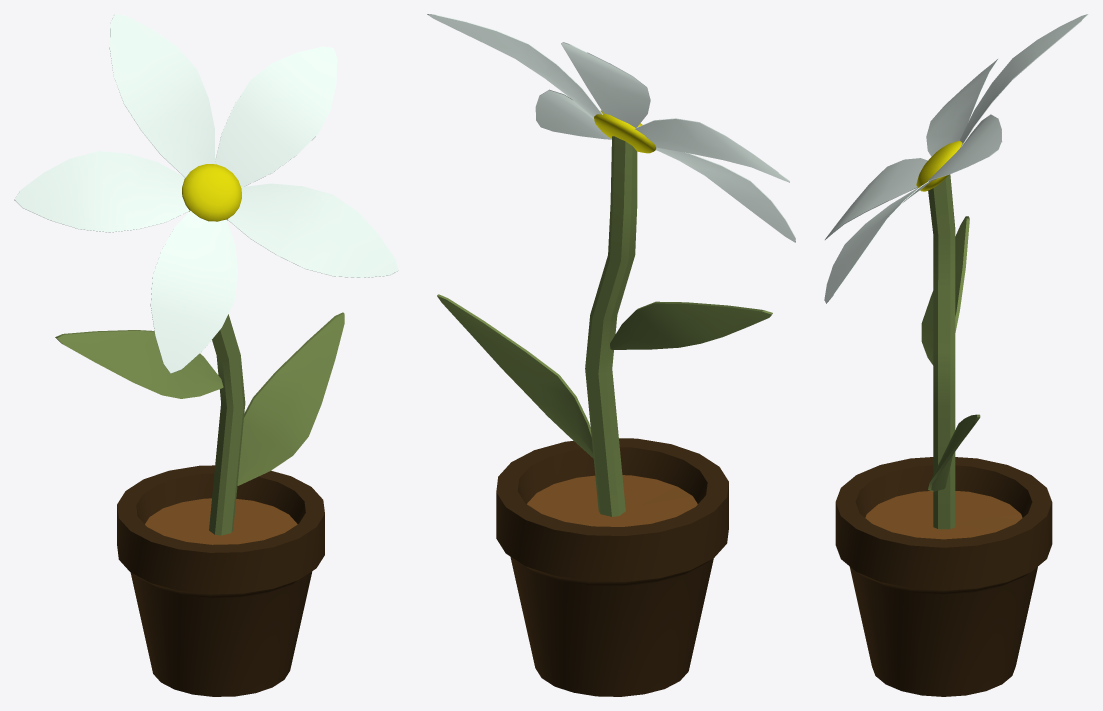
Rendered from stylised_flower_pot.glb.
3 renders of one model, left to right at view 1: azimuth 30°, elevation 25°; view 2: azimuth 150°, elevation 25°; view 3: azimuth 270°, elevation 25°, orthographic. The views are drawn at different scales.
Visible parts, largest first — view 1: polySurface17, polySurface21, polySurface19, polySurface22, polySurface23, polySurface24, polySurface16, polySurface15, polySurface18, polySurface20; view 2: polySurface17, polySurface18, polySurface16, polySurface15, polySurface19, polySurface23, polySurface21, polySurface24, polySurface22, polySurface20; view 3: polySurface17, polySurface18, polySurface24, polySurface23, polySurface19, polySurface22, polySurface21, polySurface15, polySurface16, polySurface20.
Boxes of the visible parts, <box> form: polySurface17: <box>117,465,324,696</box>; polySurface21: <box>215,46,337,186</box>; polySurface19: <box>109,14,214,177</box>; polySurface22: <box>227,183,398,277</box>; polySurface23: <box>14,151,189,232</box>; polySurface24: <box>150,210,237,373</box>; polySurface16: <box>237,312,344,485</box>; polySurface15: <box>55,330,223,398</box>; polySurface18: <box>209,314,245,535</box>; polySurface20: <box>182,164,241,221</box>; polySurface17: <box>496,438,728,696</box>; polySurface18: <box>585,136,637,516</box>; polySurface16: <box>437,294,593,458</box>; polySurface15: <box>610,301,772,349</box>; polySurface19: <box>561,42,650,127</box>; polySurface23: <box>635,118,789,182</box>; polySurface21: <box>427,14,602,117</box>; polySurface24: <box>656,147,795,242</box>; polySurface22: <box>535,89,611,139</box>; polySurface20: <box>594,110,656,153</box>; polySurface17: <box>835,457,1052,696</box>; polySurface18: <box>928,174,955,529</box>; polySurface24: <box>825,158,927,239</box>; polySurface23: <box>926,59,998,156</box>; polySurface19: <box>959,14,1088,147</box>; polySurface22: <box>824,181,930,303</box>; polySurface21: <box>928,114,1002,181</box>; polySurface15: <box>921,216,969,365</box>; polySurface16: <box>928,414,980,491</box>; polySurface20: <box>916,140,963,191</box>.
Bounding box in the file's own units: 88.86 × 161 × 61.
